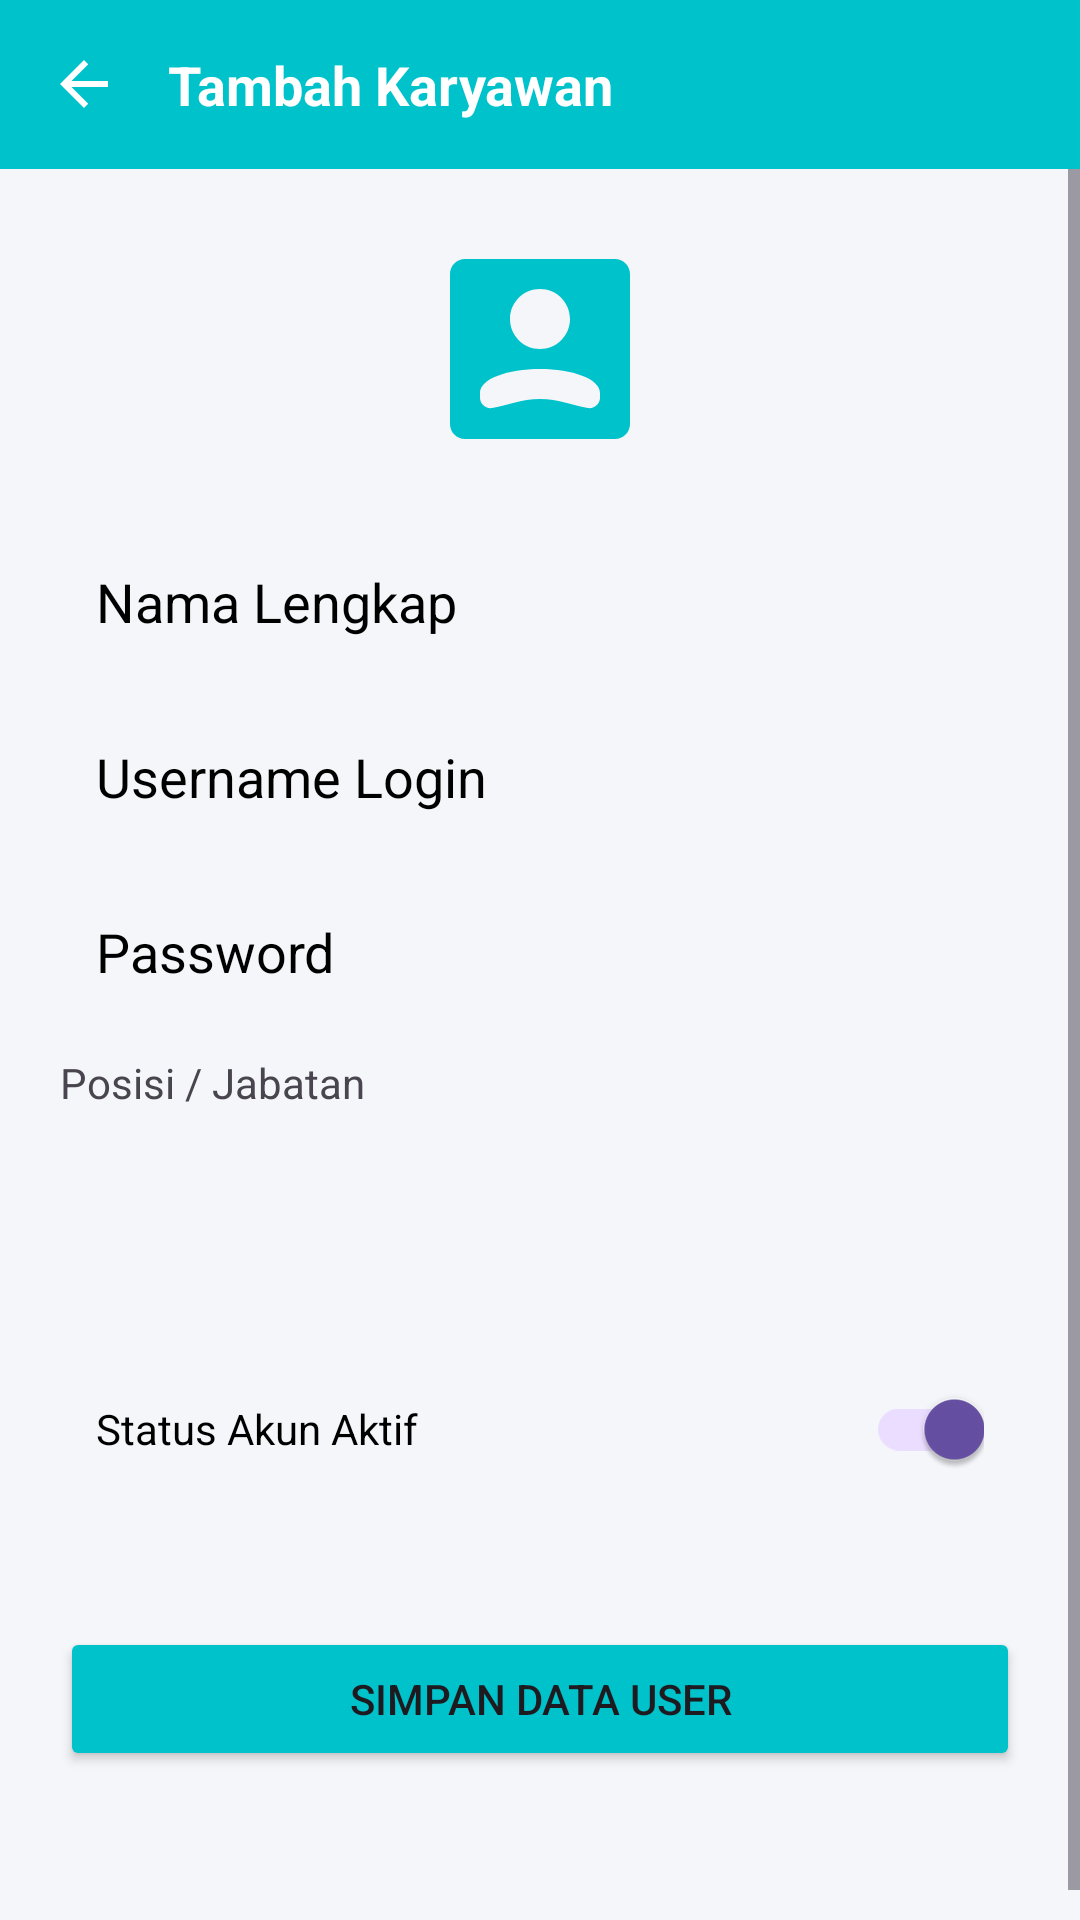

Screen size 1080×1920. Icon name, then its center in pixels as (x=x, y=y):
arrow back: (x=84, y=84)
